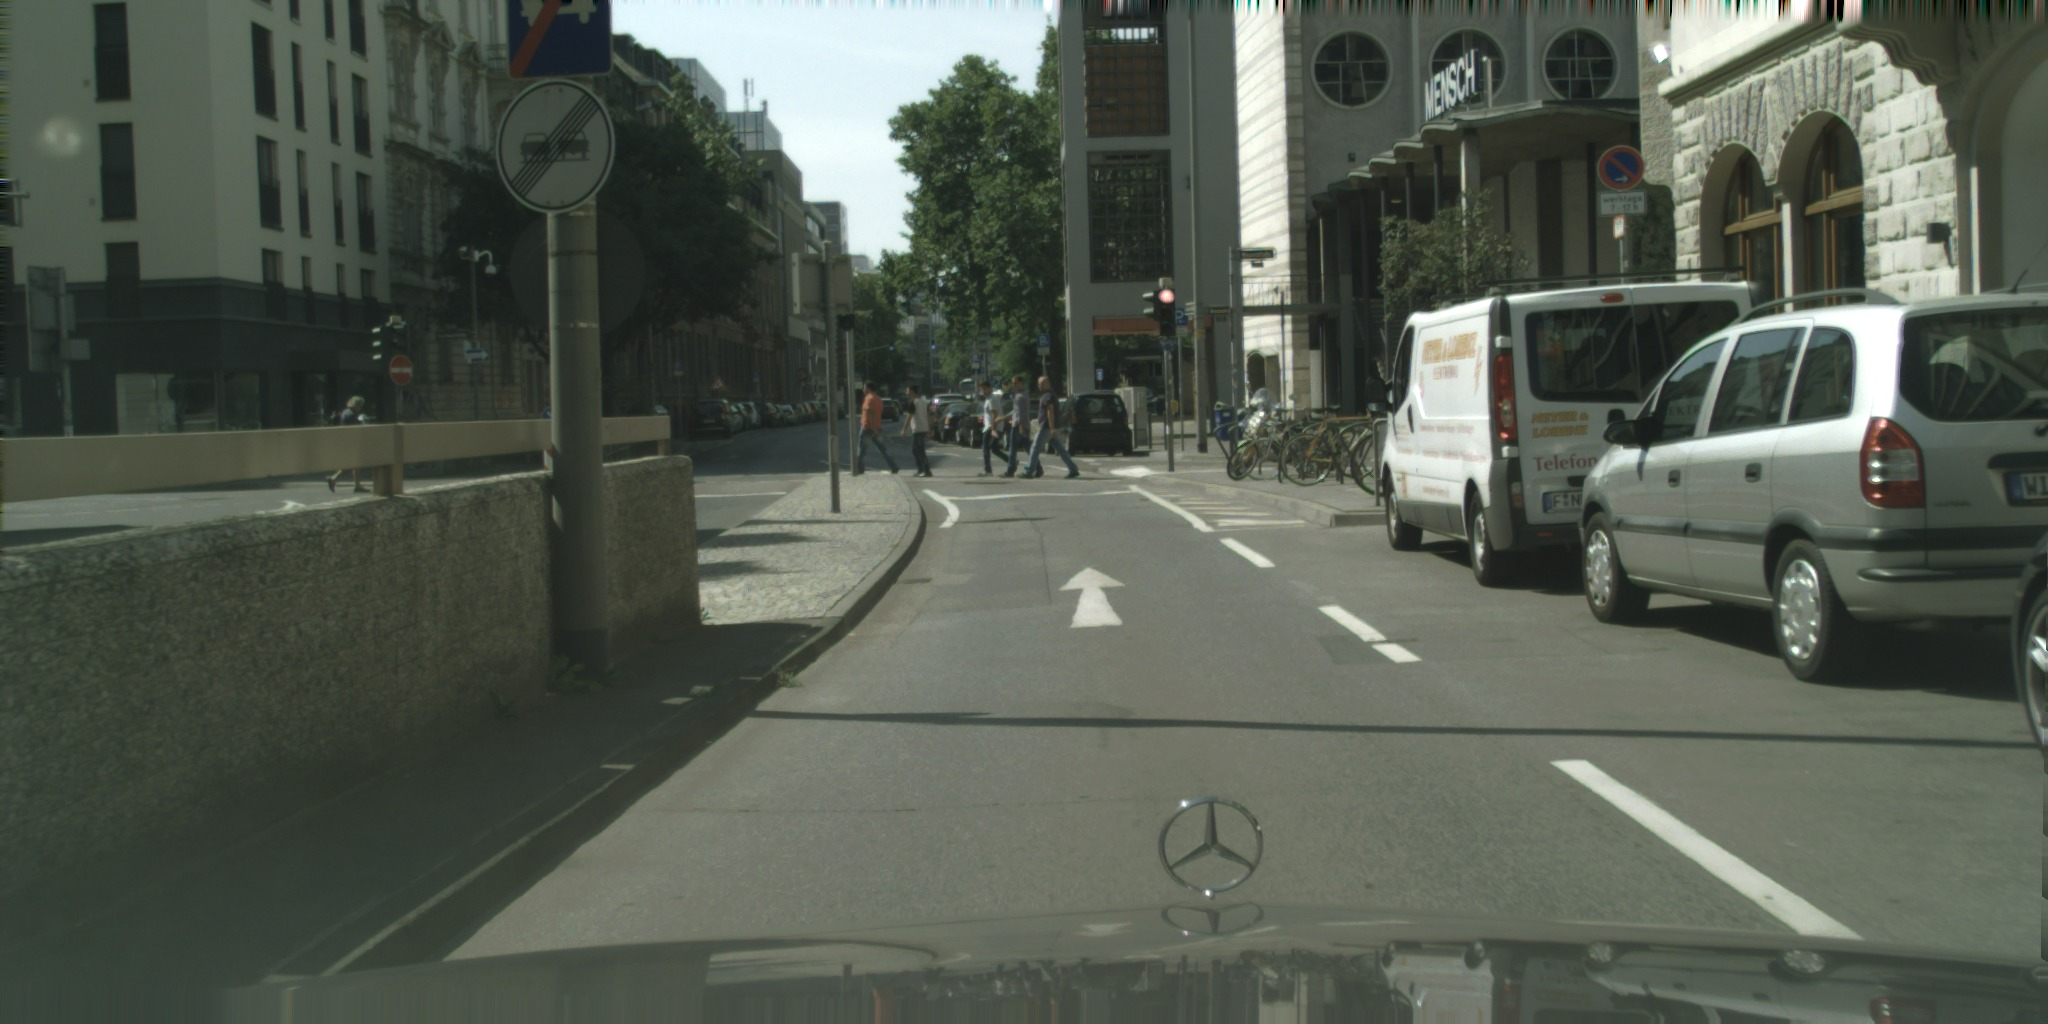bicycle: (1225, 405, 1421, 501)
car: (1577, 265, 2047, 684), (1364, 265, 1775, 589), (2005, 525, 2047, 768), (1049, 393, 1133, 457), (994, 397, 1056, 450), (956, 400, 1019, 447), (1040, 398, 1082, 455), (931, 401, 983, 439), (936, 403, 984, 442), (686, 405, 730, 441), (695, 398, 738, 435), (1135, 382, 1173, 417), (721, 401, 760, 430), (926, 392, 970, 417), (708, 405, 746, 433), (747, 401, 781, 428), (719, 403, 752, 430), (975, 387, 1005, 412), (868, 397, 899, 422), (766, 405, 798, 425), (959, 379, 978, 405), (785, 403, 809, 424), (808, 401, 833, 420), (801, 401, 823, 422), (795, 401, 815, 422), (893, 397, 920, 411), (787, 405, 809, 422), (883, 398, 905, 414), (831, 400, 844, 419)
motorcycle: (1234, 380, 1296, 446)
person: (1018, 375, 1079, 480), (991, 375, 1045, 479), (324, 393, 370, 493), (975, 381, 1019, 476), (855, 379, 899, 476), (901, 386, 934, 476)
